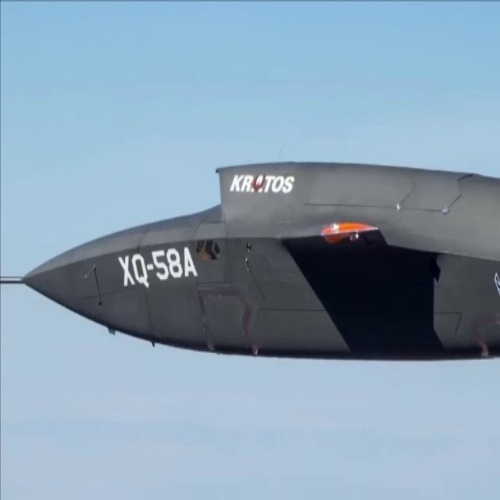uav965: (1, 156, 498, 366)
